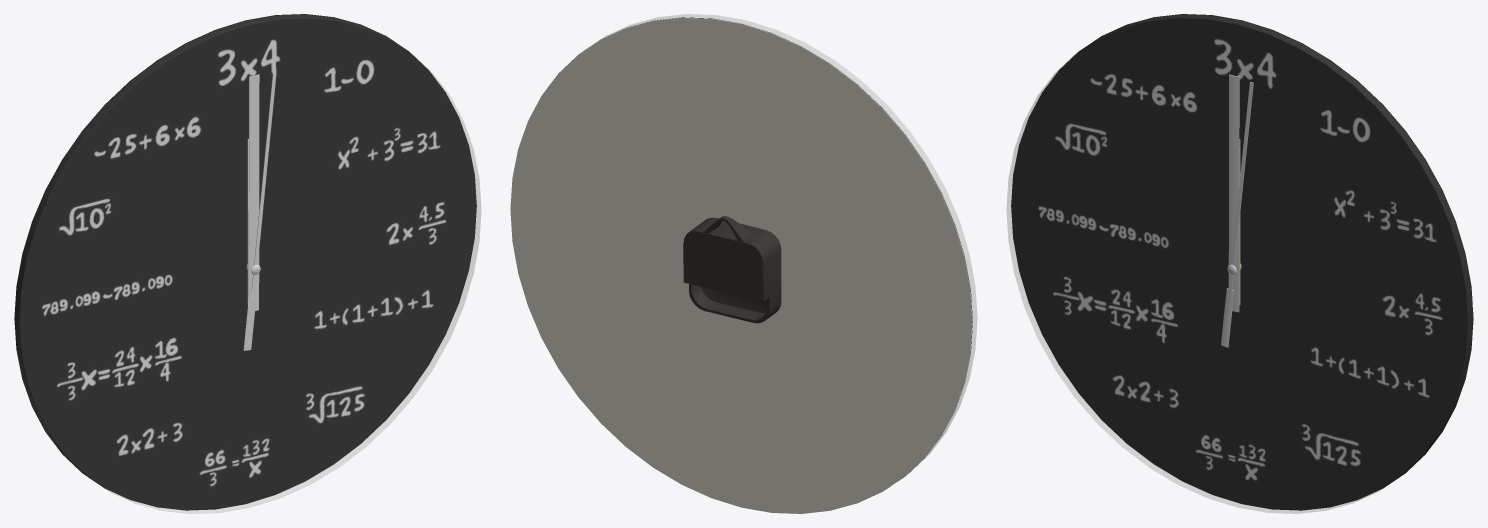
3 views of the same model, side by side, from view 1: azimuth 30°, elevation 25°; view 2: azimuth 150°, elevation 25°; view 3: azimuth 330°, elevation 25° (orthographic).
Visible parts, largest first — view 1: Clock face glass_4, Clock face_3, Minute hand_7, Second hand_11; view 2: Clock face_3, Clock Battery_2, Clock face glass_4; view 3: Clock face glass_4, Clock face_3, Minute hand_7, Second hand_11.
Part boxes in pixels (bbox=[...]): Clock face glass_4: bbox=[15, 14, 481, 513]; Clock face_3: bbox=[14, 14, 476, 510]; Minute hand_7: bbox=[248, 74, 259, 310]; Second hand_11: bbox=[243, 73, 276, 350]; Clock face_3: bbox=[510, 17, 972, 513]; Clock Battery_2: bbox=[683, 217, 781, 323]; Clock face glass_4: bbox=[602, 14, 977, 474]; Clock face glass_4: bbox=[1006, 14, 1472, 513]; Clock face_3: bbox=[1011, 14, 1473, 510]; Minute hand_7: bbox=[1228, 74, 1239, 312]; Second hand_11: bbox=[1221, 82, 1253, 347].
Size of the model in its own units: 3.92 by 3.92 by 0.4261.
6 materials, 1 textured.
